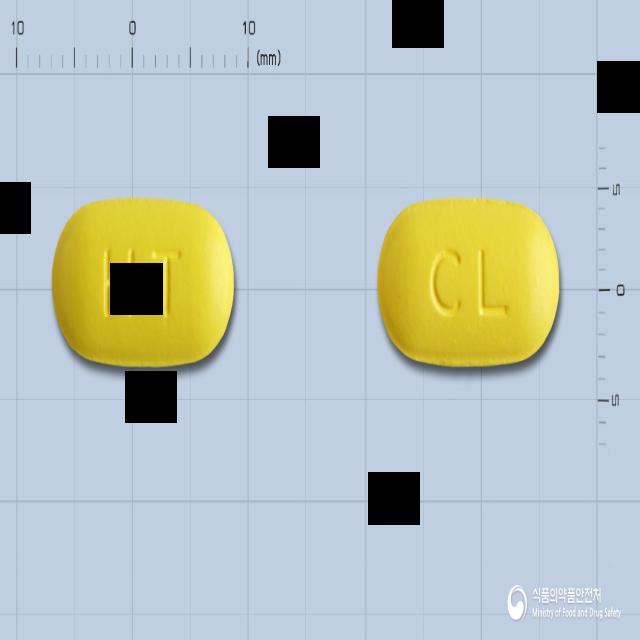Clathrocin: (376, 193, 561, 368), (52, 198, 235, 370)
